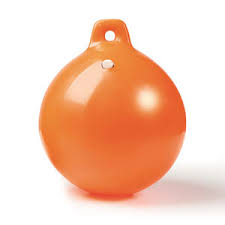buoy: (35, 45, 192, 195)
